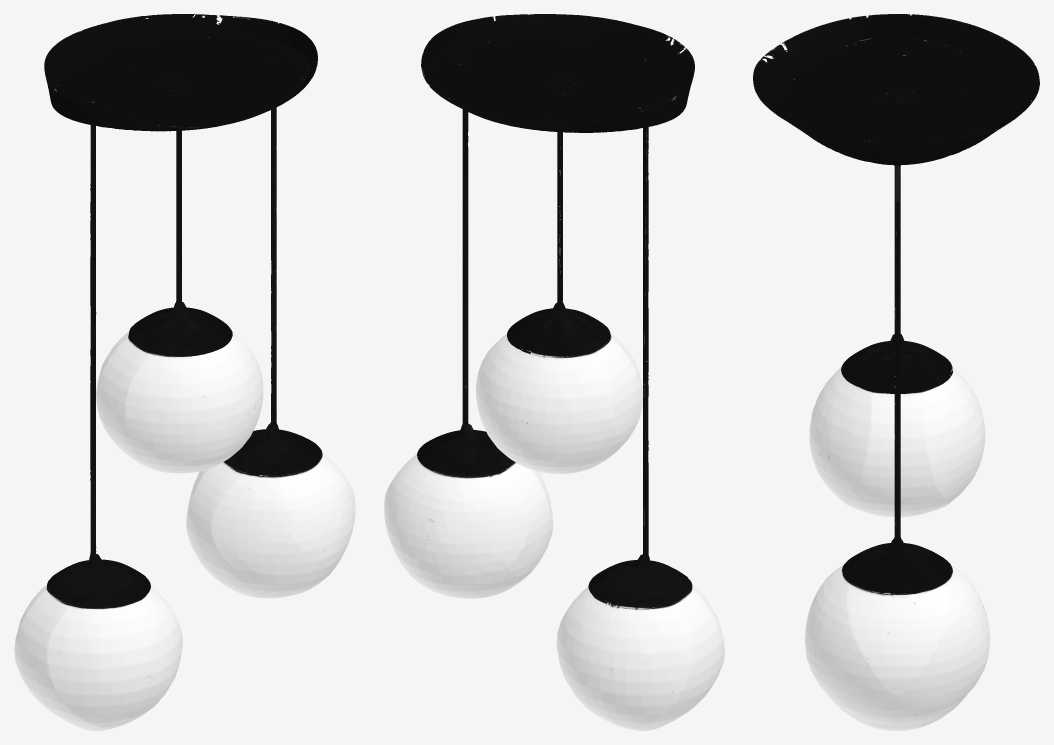
File: SimpleDesign 1.glb
The picture shows the model from 3 angles, left to right: view 1: azimuth 30°, elevation 25°; view 2: azimuth 150°, elevation 25°; view 3: azimuth 270°, elevation 25°; orthographic projection. The views are drawn at different scales.
Parts seen in each view (by area): view 1: mesh_node; view 2: mesh_node; view 3: mesh_node.
Boxes of the visible parts, x1,y1,x2,y2 form: mesh_node: [14, 14, 355, 730]; mesh_node: [384, 14, 724, 730]; mesh_node: [753, 14, 1039, 730].
Bounding box in the file's own units: 0.9828 × 1.9 × 0.7153.
Materials: 1 (1 with a texture image).
